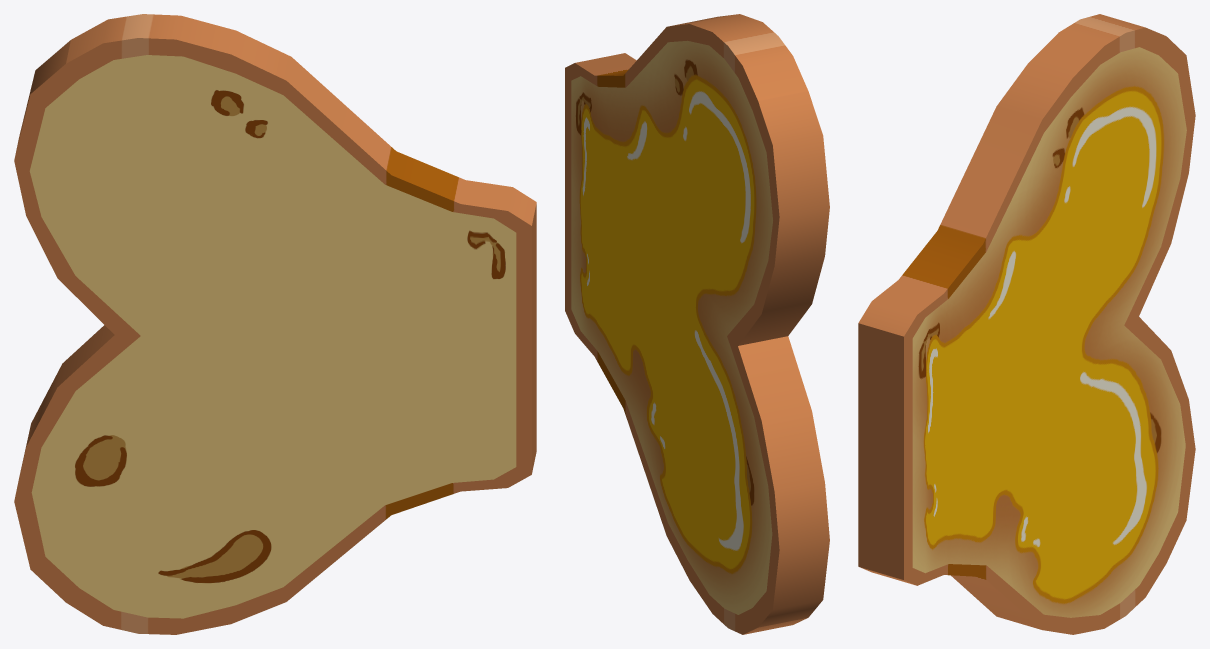
File: FlowtObjArmL.fbx
3 views of the same model, side by side, from view 1: azimuth 30°, elevation 25°; view 2: azimuth 150°, elevation 25°; view 3: azimuth 270°, elevation 25° (orthographic). The views are drawn at different scales.
Parts seen in each view (by area): view 1: polySurface611; view 2: polySurface611; view 3: polySurface611.
Boxes of the visible parts, x1=… form: polySurface611: x1=14, y1=14, x2=536, y2=634; polySurface611: x1=565, y1=14, x2=829, y2=634; polySurface611: x1=858, y1=14, x2=1195, y2=634.
Size of the model in its own units: 0.5742 by 0.8238 by 0.4318.
Materials: 3 (3 with a texture image).
